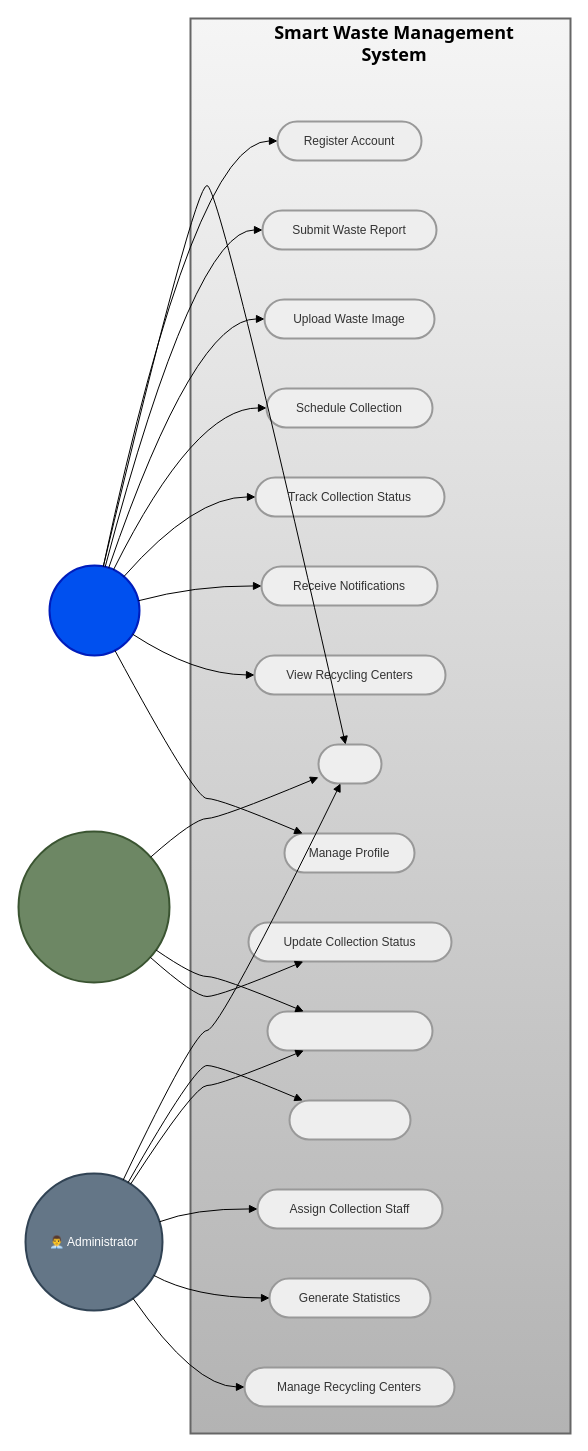
This 588x1451 diagram has some shape labels left out. Each missing label, with the centre of its shape:
Login: pixel 349 763
Manage Users: pixel 349 1119
View Waste Reports: pixel 349 1030
👤 Citizen: pixel 94 610
🚛 Collection Staff: pixel 93 906
